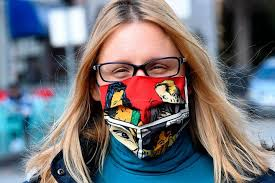with_mask: (77, 8, 219, 164)
